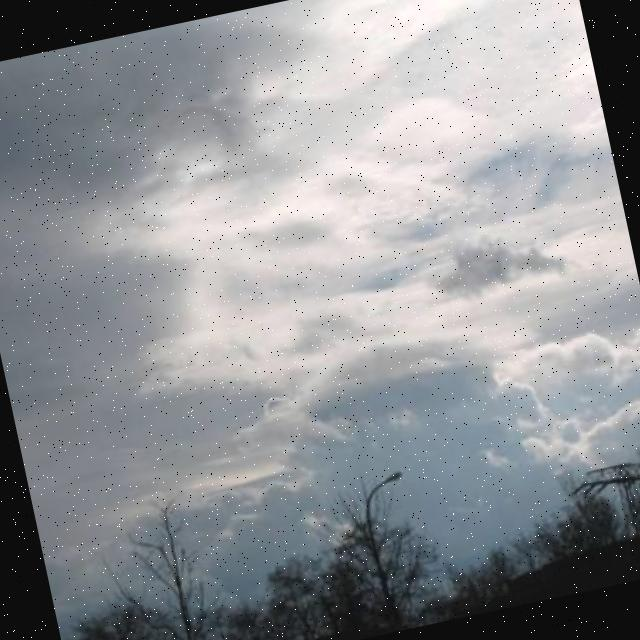Cu: (1, 52, 640, 514)
